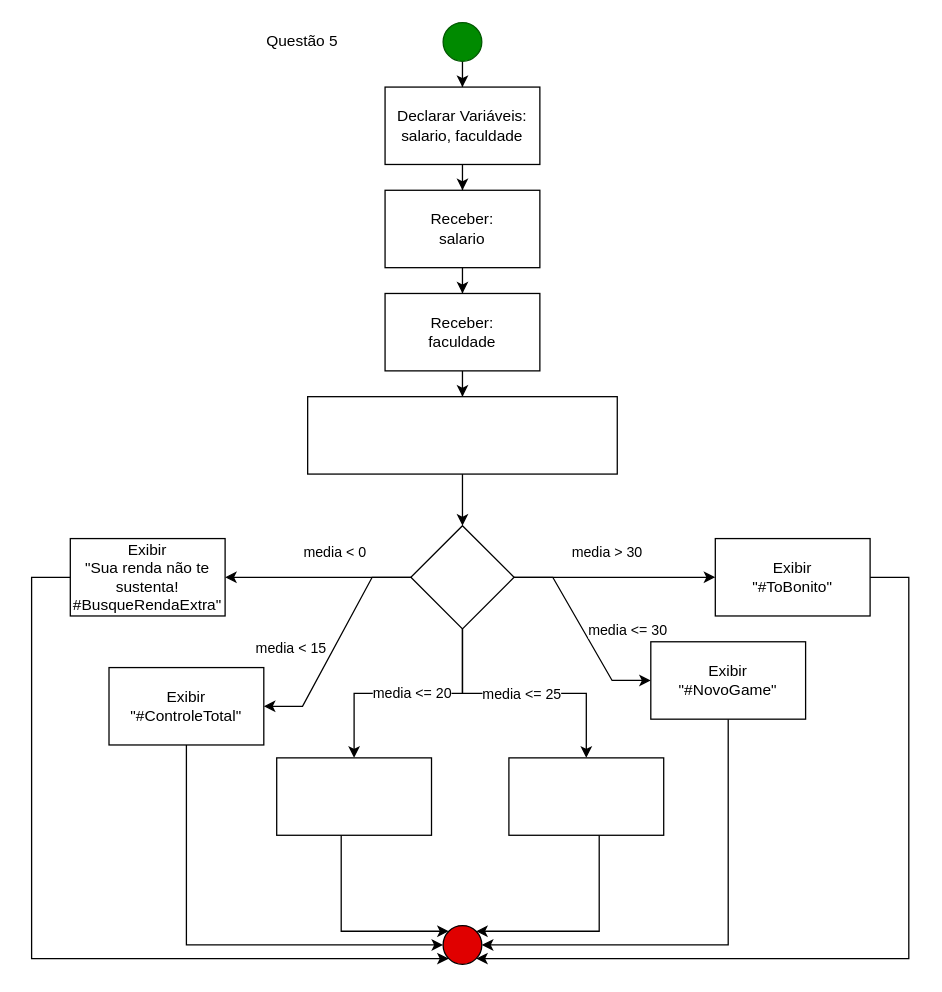
Image size: 942x992. Some labels were removed from this diagram. The shapes that lost their labels are listed below. From the top down, each one's centre as x and y in pixels, then its label:
[461,434]: Calcular: media= (salario-faculdade)/30
[353,796]: Exibir "#RagazzoSabado"
[586,796]: Exibir "#CinemaNamorada"
